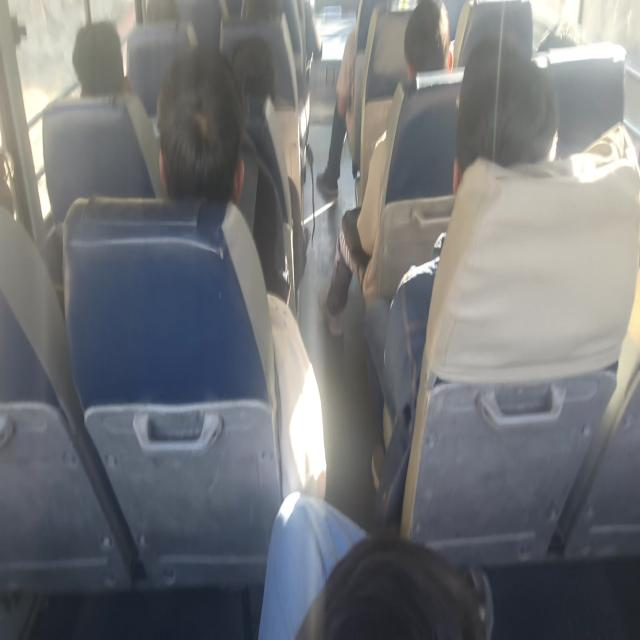person: (288, 519, 497, 640), (162, 65, 259, 239), (466, 39, 554, 179), (214, 36, 293, 118), (69, 21, 142, 105), (395, 0, 451, 90), (0, 134, 36, 222), (545, 13, 595, 62)
